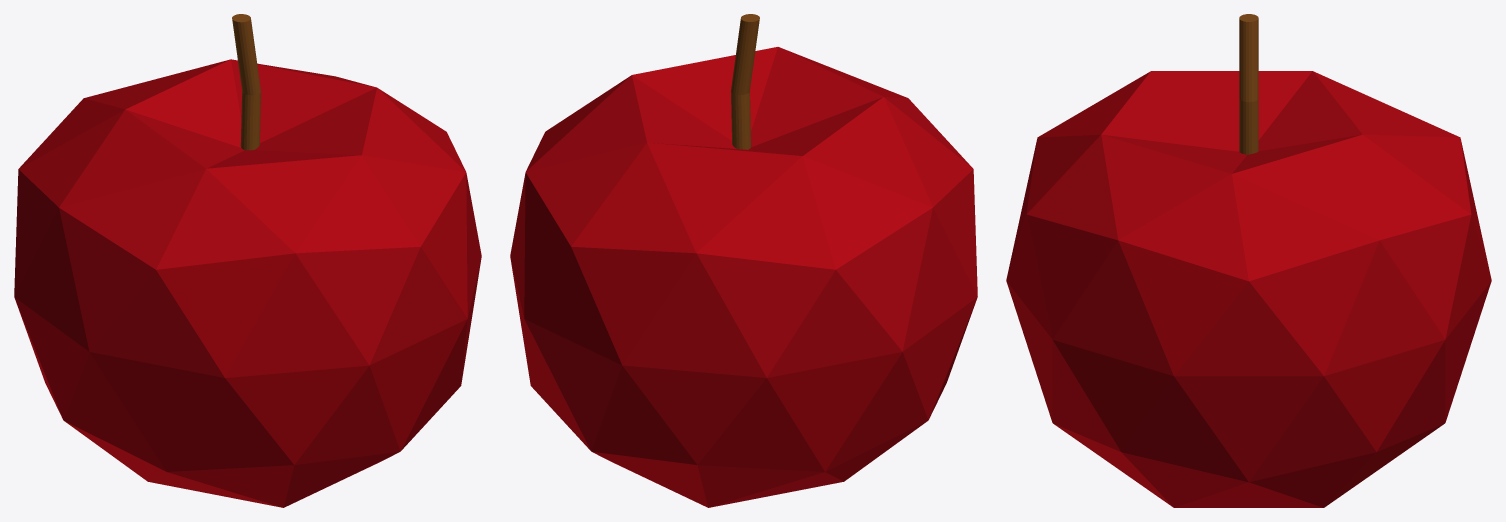
The model's file is Apple.fbx.
3 views of the same model, side by side, from view 1: azimuth 30°, elevation 25°; view 2: azimuth 150°, elevation 25°; view 3: azimuth 270°, elevation 25° (orthographic).
Parts seen in each view (by area): view 1: Apple - V1; view 2: Apple - V1; view 3: Apple - V1.
Boxes of the visible parts, x1,y1,x2,y2 form: Apple - V1: (14, 14, 481, 507); Apple - V1: (510, 14, 977, 507); Apple - V1: (1006, 14, 1491, 507).
Size of the model in its own units: 15 by 16 by 16.
